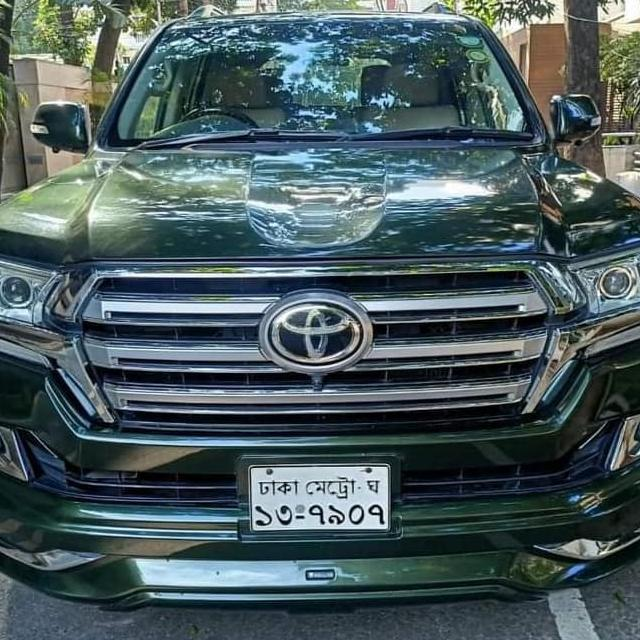Number-Plate: (249, 462, 393, 530)
